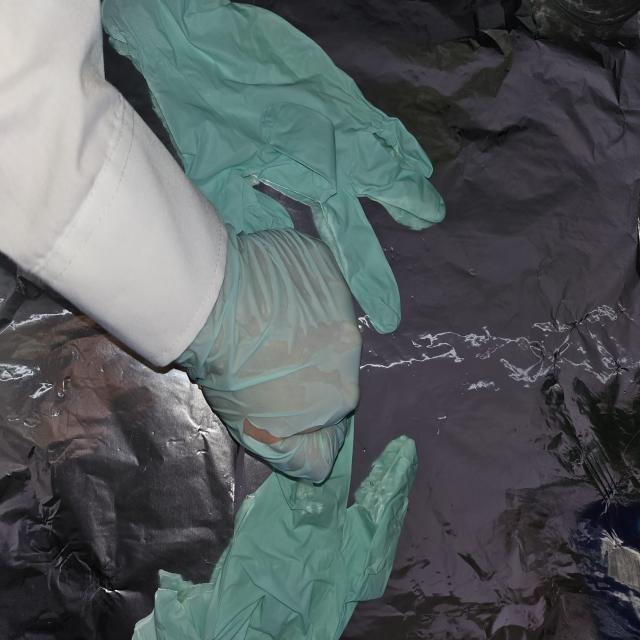gloves_damaged: (173, 221, 363, 486)
